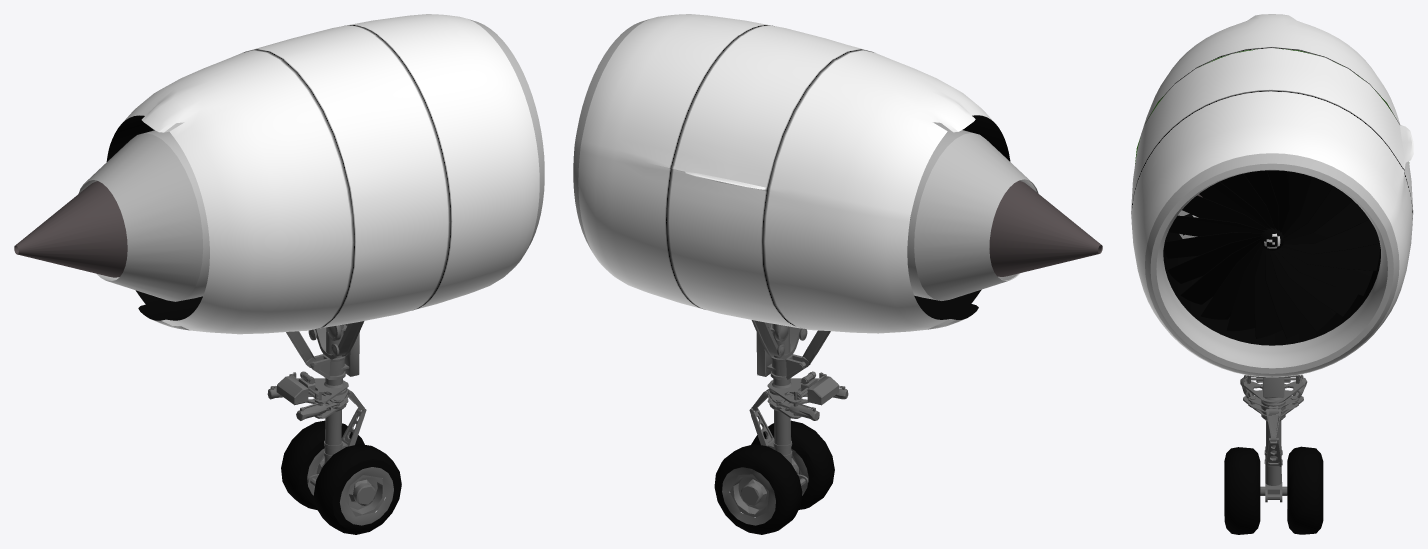
The model's file is boeing7.glb.
The picture shows the model from 3 angles, left to right: view 1: azimuth 30°, elevation 25°; view 2: azimuth 150°, elevation 25°; view 3: azimuth 270°, elevation 25°; orthographic projection. The views are drawn at different scales.
Visible parts, largest first — view 1: frontGear; view 2: frontGear; view 3: frontGear.
Part boxes in pixels (x1,y1,x2,y2): frontGear: (14,14,544,534); frontGear: (573,14,1102,534); frontGear: (1131,14,1413,534).
Bounding box in the file's own units: 6.6 × 6.3 × 3.53.
8 materials, 1 textured.
